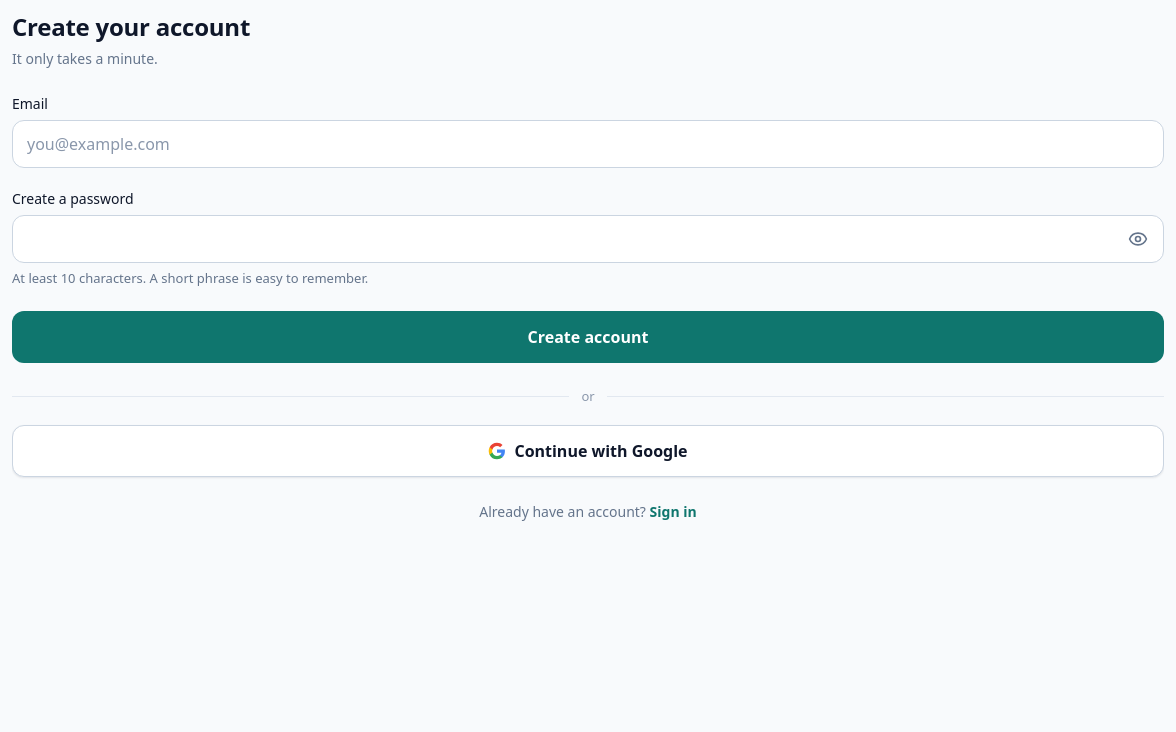
Test: SignupForm › asks the user to check their email after signing up
Type "Alex@Example.com" into the field labelled "Email" at point(588, 144), box [12,120,1164,168]
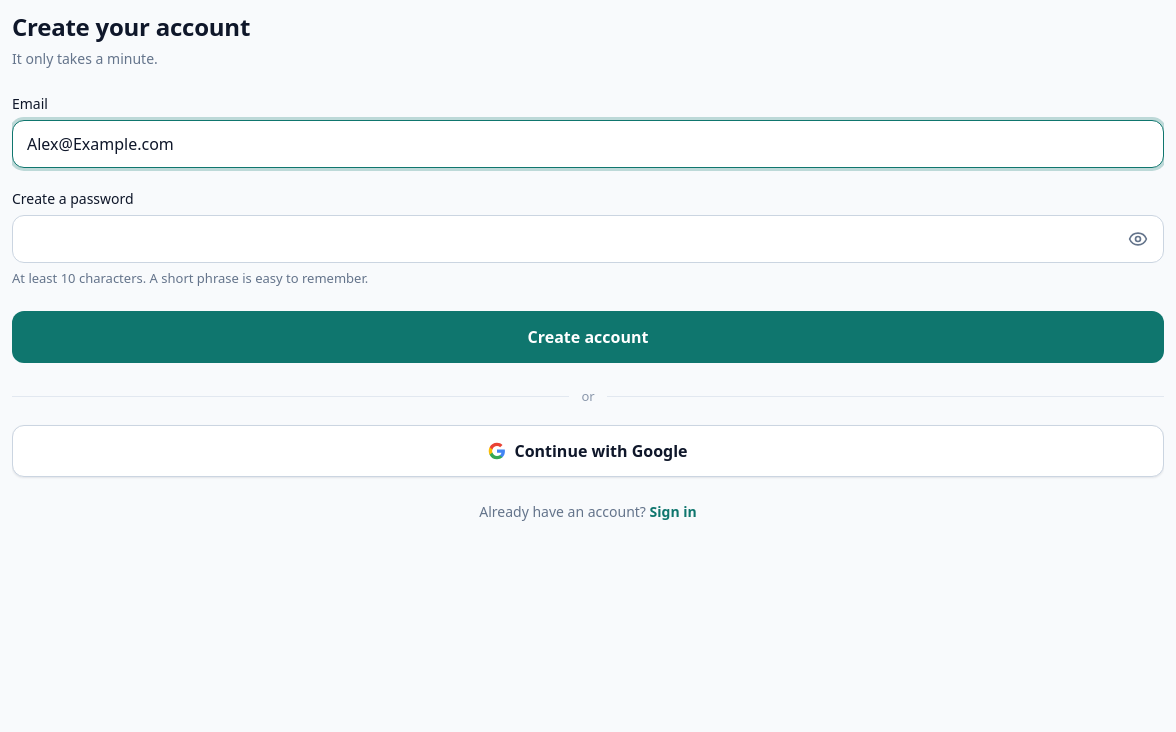
Type "calm-river-sunrise-42" into the password field labelled "Create a password" at point(588, 239), box [12,215,1164,263]
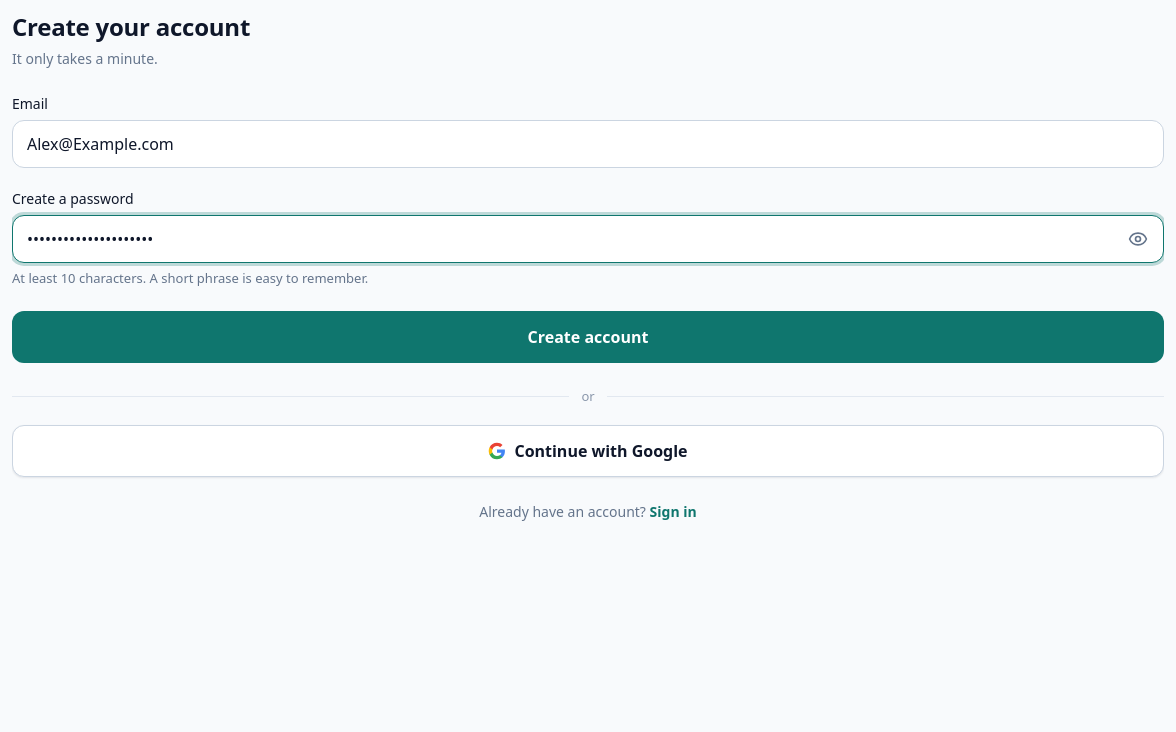
Click the button "Create account" at point(588, 337), box [12,311,1164,363]
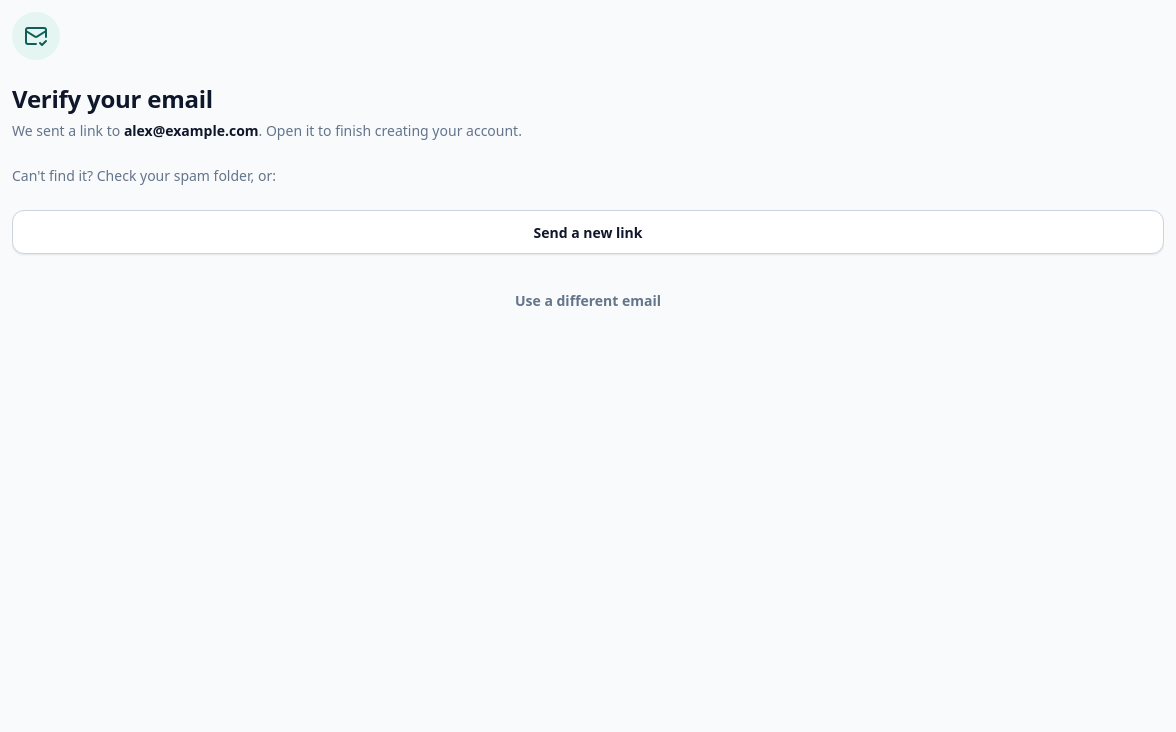
Expected: the heading "Verify your email" is shown, [12,82,213,115]
Expected: the text "alex@example.com" is shown, [124,121,259,140]
